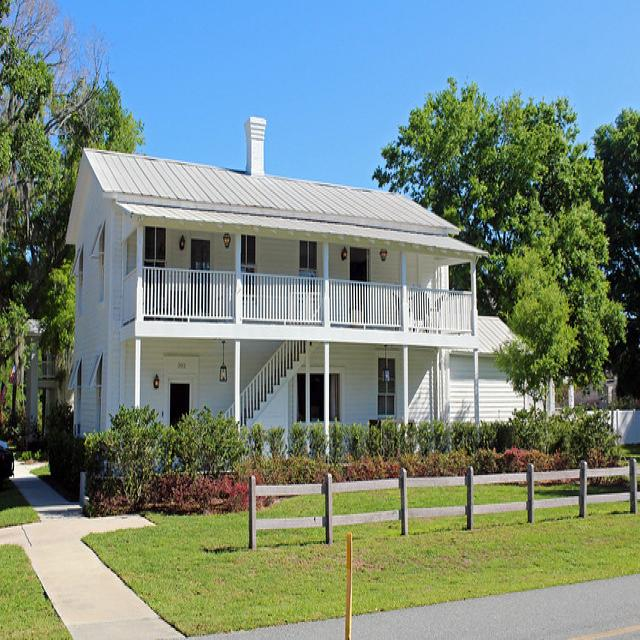Normal_building: (64, 112, 551, 488)
